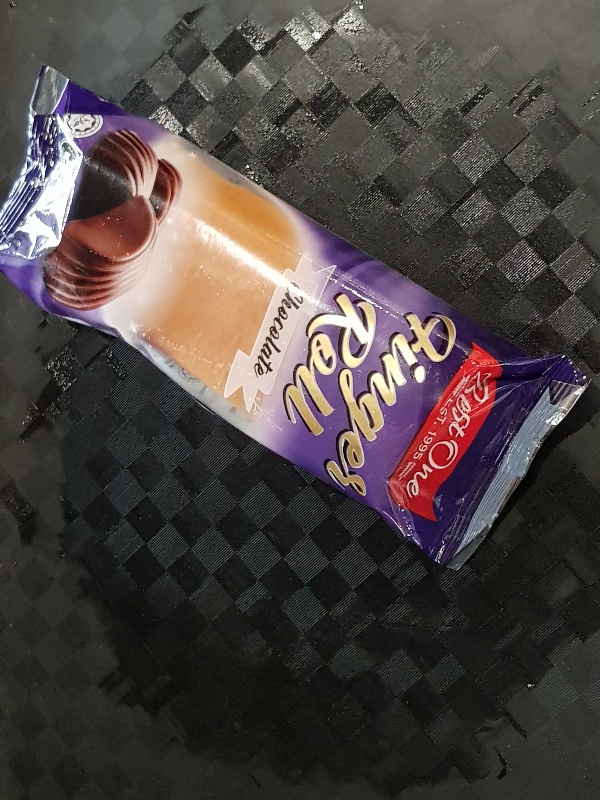Tinges Roll Chocolate: (1, 62, 594, 574)
